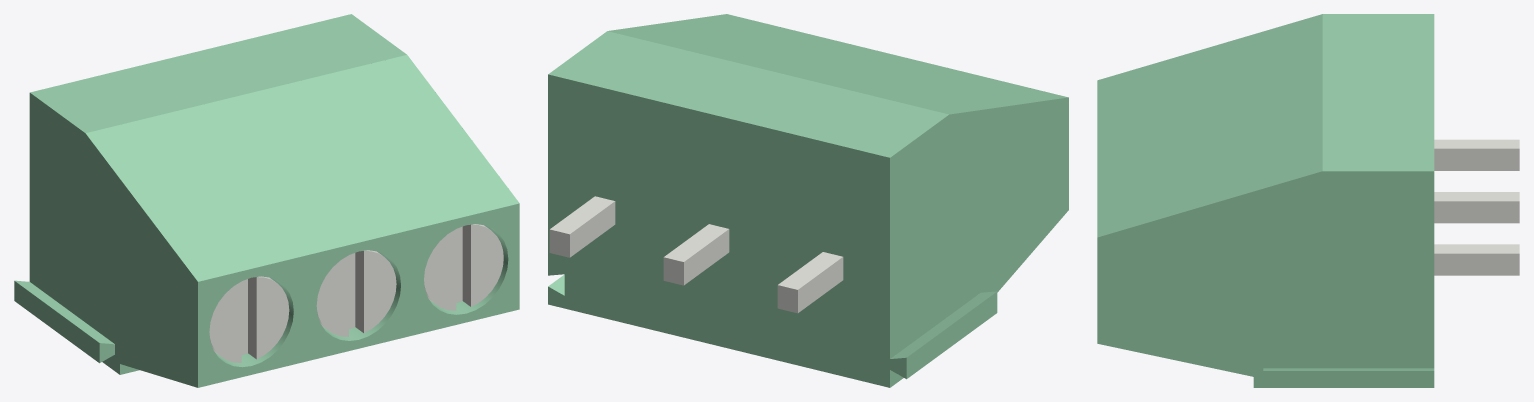
File: TerminalBlock_Phoenix_MKDS-1,5-3-5.08_1x03_P5.08mm_Horizontal.glb
3 renders of one model, left to right at view 1: azimuth 30°, elevation 25°; view 2: azimuth 150°, elevation 25°; view 3: azimuth 270°, elevation 25°, orthographic. The views are drawn at different scales.
Parts seen in each view (by area): view 1: Shape_IndexedFaceSet.003, Shape_IndexedFaceSet, Shape_IndexedFaceSet.004, Shape_IndexedFaceSet.002, Shape_IndexedFaceSet.102, Shape_IndexedFaceSet.112, Shape_IndexedFaceSet.116, Shape_IndexedFaceSet.092, Shape_IndexedFaceSet.106, Shape_IndexedFaceSet.096, Shape_IndexedFaceSet.015, Shape_IndexedFaceSet.006 (+9 smaller); view 2: Shape_IndexedFaceSet.005, Shape_IndexedFaceSet, Shape_IndexedFaceSet.004, Shape_IndexedFaceSet.003, Shape_IndexedFaceSet.015, Shape_IndexedFaceSet.024, Shape_IndexedFaceSet.028, Shape_IndexedFaceSet.020, Shape_IndexedFaceSet.006, Shape_IndexedFaceSet.025, Shape_IndexedFaceSet.029, Shape_IndexedFaceSet.021 (+3 smaller); view 3: Shape_IndexedFaceSet.011, Shape_IndexedFaceSet.003, Shape_IndexedFaceSet.004, Shape_IndexedFaceSet.022, Shape_IndexedFaceSet.026, Shape_IndexedFaceSet.030, Shape_IndexedFaceSet.017, Shape_IndexedFaceSet.021, Shape_IndexedFaceSet.025, Shape_IndexedFaceSet.029, Shape_IndexedFaceSet.016.
Part boxes in pixels (x1=…): Shape_IndexedFaceSet.003: x1=86, y1=55, x2=519, y2=281; Shape_IndexedFaceSet: x1=29, y1=93, x2=197, y2=387; Shape_IndexedFaceSet.004: x1=30, y1=14, x2=406, y2=133; Shape_IndexedFaceSet.002: x1=198, y1=203, x2=519, y2=387; Shape_IndexedFaceSet.102: x1=256, y1=277, x2=289, y2=358; Shape_IndexedFaceSet.112: x1=471, y1=224, x2=503, y2=306; Shape_IndexedFaceSet.116: x1=424, y1=229, x2=456, y2=310; Shape_IndexedFaceSet.092: x1=364, y1=251, x2=396, y2=332; Shape_IndexedFaceSet.106: x1=209, y1=281, x2=241, y2=362; Shape_IndexedFaceSet.096: x1=316, y1=255, x2=348, y2=336; Shape_IndexedFaceSet.015: x1=14, y1=281, x2=99, y2=362; Shape_IndexedFaceSet.006: x1=15, y1=280, x2=114, y2=344; Shape_IndexedFaceSet.005: x1=548, y1=74, x2=906, y2=387; Shape_IndexedFaceSet: x1=890, y1=97, x2=1068, y2=387; Shape_IndexedFaceSet.004: x1=548, y1=31, x2=948, y2=157; Shape_IndexedFaceSet.003: x1=608, y1=14, x2=1067, y2=114; Shape_IndexedFaceSet.015: x1=906, y1=292, x2=997, y2=378; Shape_IndexedFaceSet.024: x1=570, y1=201, x2=615, y2=257; Shape_IndexedFaceSet.028: x1=798, y1=257, x2=843, y2=312; Shape_IndexedFaceSet.020: x1=684, y1=229, x2=729, y2=285; Shape_IndexedFaceSet.006: x1=890, y1=291, x2=996, y2=358; Shape_IndexedFaceSet.025: x1=550, y1=196, x2=614, y2=234; Shape_IndexedFaceSet.029: x1=778, y1=252, x2=842, y2=289; Shape_IndexedFaceSet.021: x1=664, y1=224, x2=728, y2=261; Shape_IndexedFaceSet.011: x1=1097, y1=171, x2=1434, y2=387; Shape_IndexedFaceSet.003: x1=1097, y1=14, x2=1322, y2=237; Shape_IndexedFaceSet.004: x1=1322, y1=14, x2=1434, y2=171; Shape_IndexedFaceSet.022: x1=1434, y1=201, x2=1519, y2=223; Shape_IndexedFaceSet.026: x1=1434, y1=253, x2=1519, y2=275; Shape_IndexedFaceSet.030: x1=1434, y1=148, x2=1519, y2=170; Shape_IndexedFaceSet.017: x1=1263, y1=360, x2=1434, y2=368; Shape_IndexedFaceSet.021: x1=1434, y1=192, x2=1519, y2=201; Shape_IndexedFaceSet.025: x1=1434, y1=244, x2=1519, y2=253; Shape_IndexedFaceSet.029: x1=1434, y1=139, x2=1519, y2=148; Shape_IndexedFaceSet.016: x1=1263, y1=368, x2=1434, y2=370.
Bounding box in the file's own units: 6.29 × 3.86 × 6.81.
